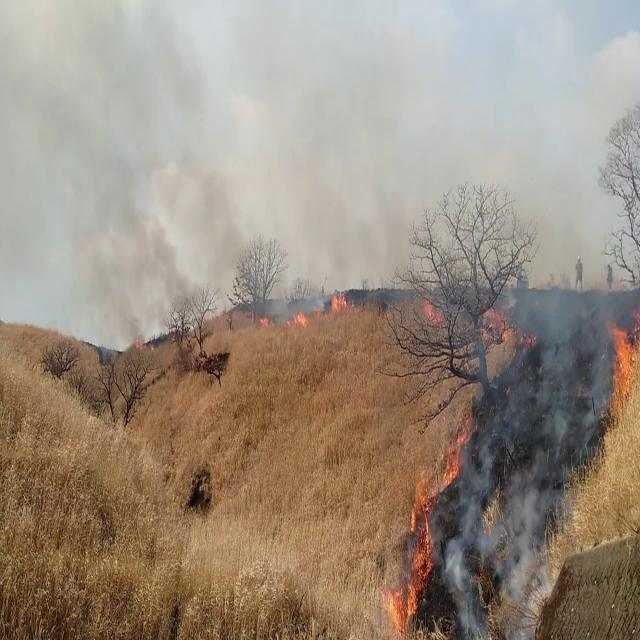Fire: (374, 461, 436, 638), (605, 304, 640, 410), (442, 410, 472, 490), (417, 287, 445, 329)
Smoke: (0, 0, 283, 351), (442, 254, 628, 622)
